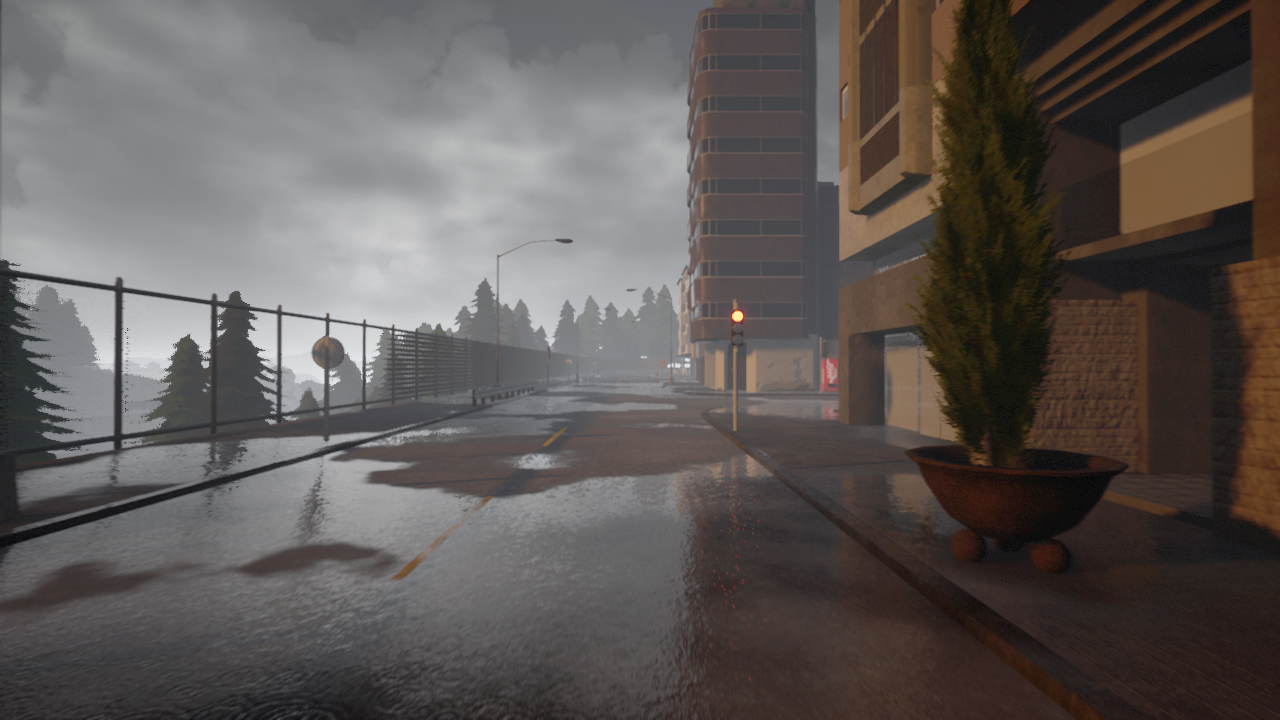red: (730, 310, 746, 347)
